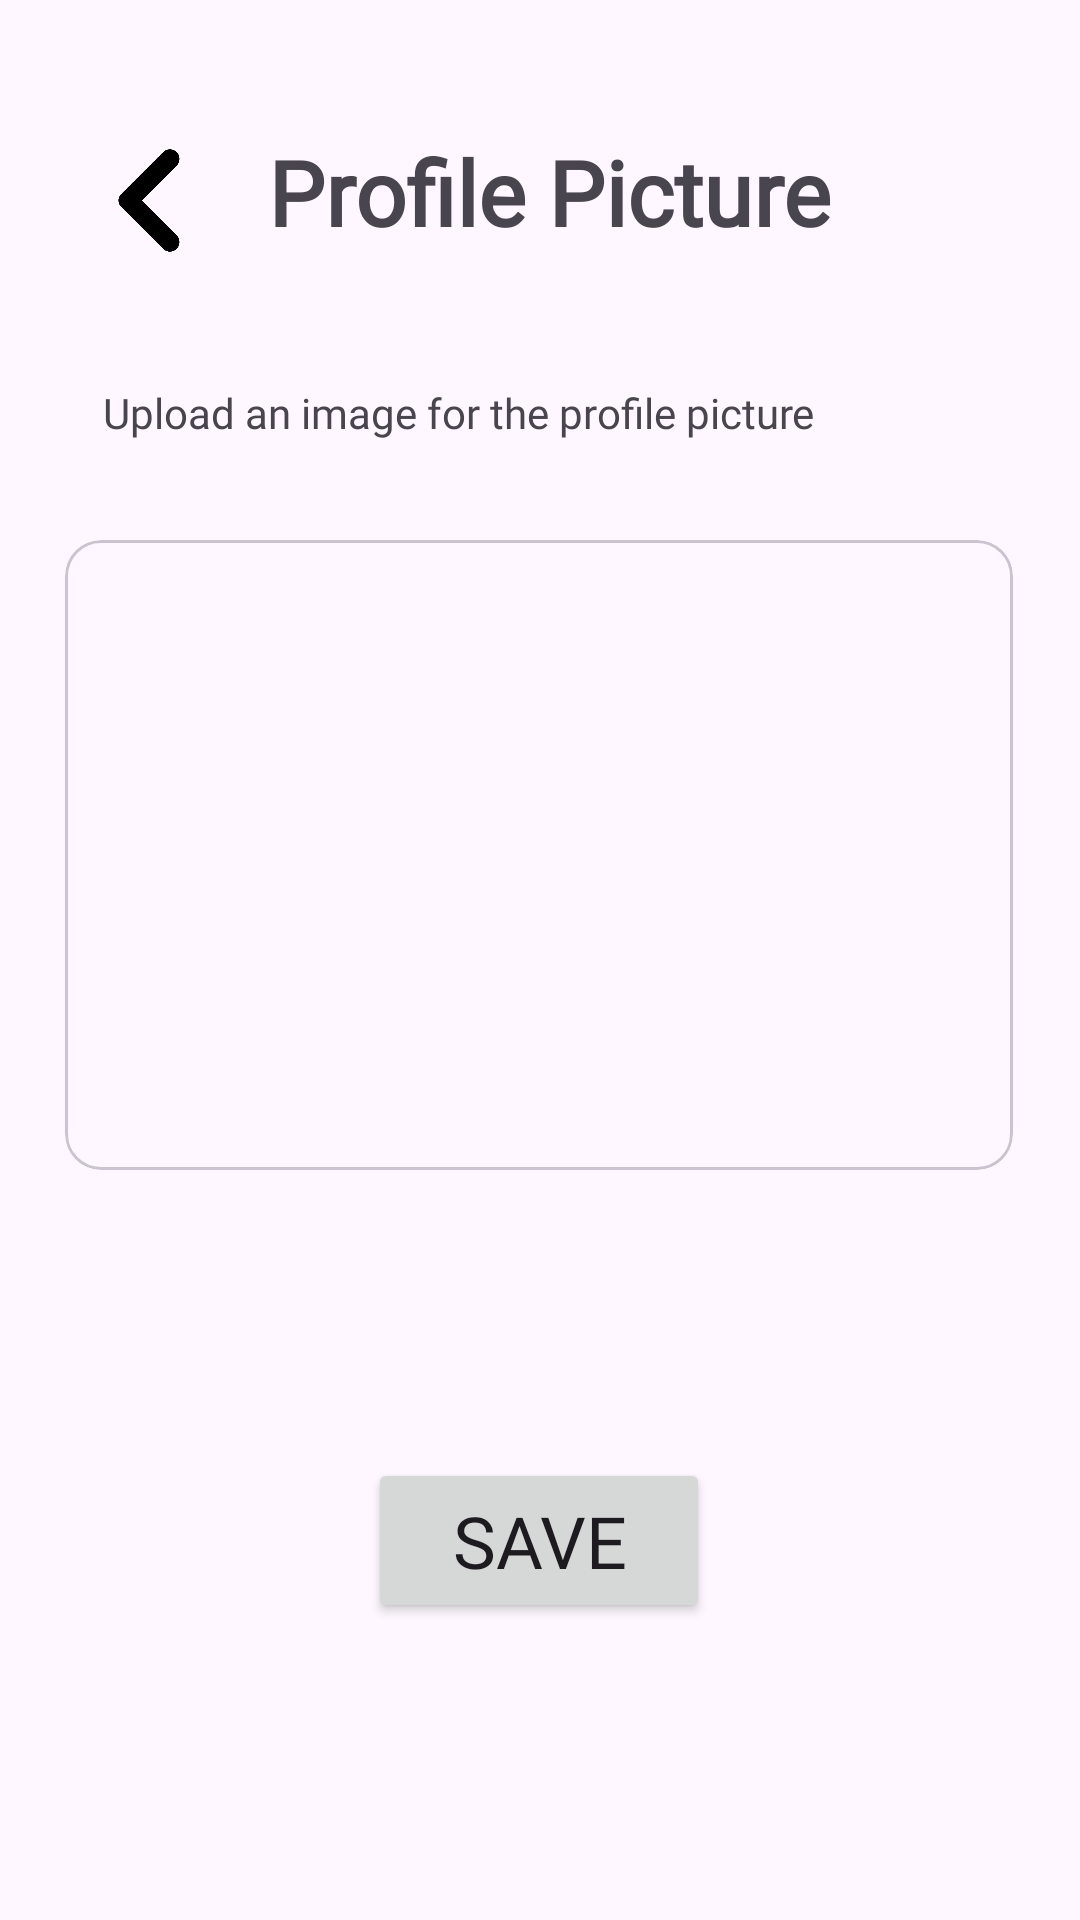

Named icons in this screenshot (1080px×1920px) and their bounding boxes, Rect(x1, y1, x2, y2):
back: Rect(118, 149, 180, 252)
